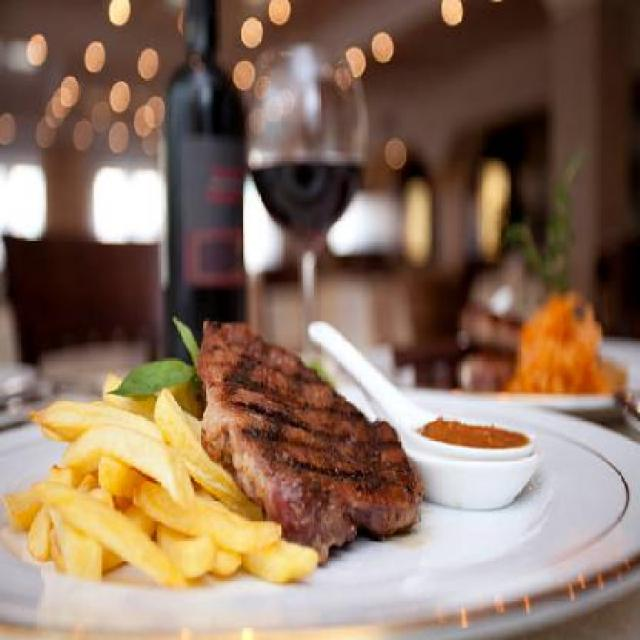fries: (1, 368, 321, 587)
